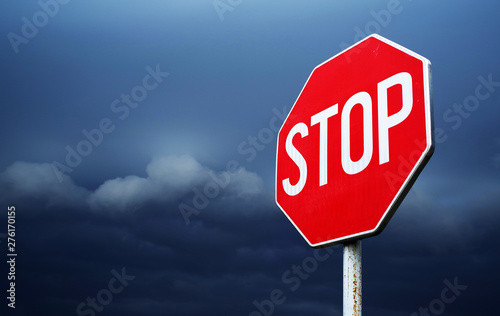StopSign: (274, 33, 433, 247)
